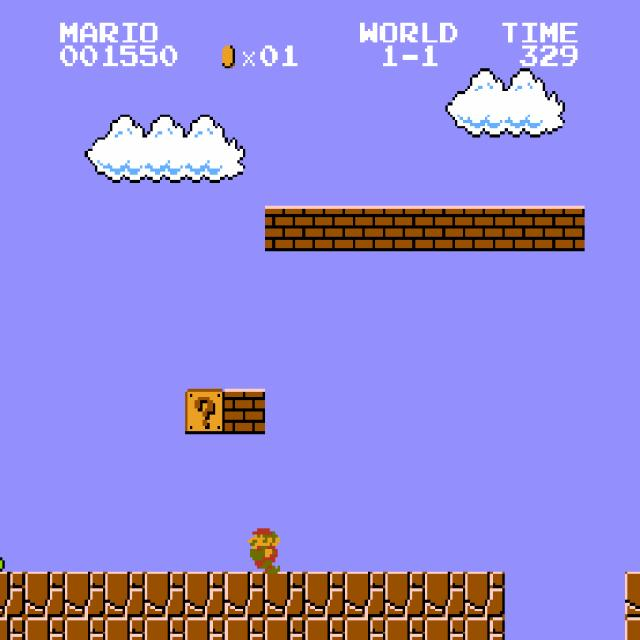brick_block: (225, 389, 265, 434), (265, 206, 305, 251), (305, 206, 345, 251), (345, 206, 385, 251), (385, 206, 425, 251), (425, 206, 465, 251), (465, 206, 505, 251), (505, 206, 545, 251), (545, 206, 585, 251)
little_mario: (240, 526, 282, 574)
mystery_block: (185, 389, 225, 434)
undestructible_block: (25, 572, 65, 617), (65, 572, 105, 617), (105, 572, 145, 617), (145, 572, 185, 617), (185, 572, 225, 617), (225, 572, 265, 617), (265, 572, 305, 617), (305, 572, 345, 617), (345, 572, 385, 617), (385, 572, 425, 617), (425, 572, 465, 617), (465, 572, 505, 617), (0, 571, 25, 617), (25, 617, 65, 640), (65, 617, 105, 640), (105, 617, 145, 640), (145, 617, 185, 640), (185, 617, 225, 640), (225, 617, 265, 640), (265, 617, 305, 640), (305, 617, 345, 640), (345, 617, 385, 640), (385, 617, 425, 640), (425, 617, 465, 640), (465, 617, 505, 640), (625, 572, 640, 617), (0, 617, 25, 639), (625, 617, 640, 640)
